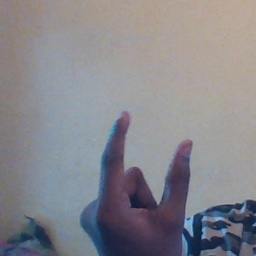U: (82, 107, 200, 256)
